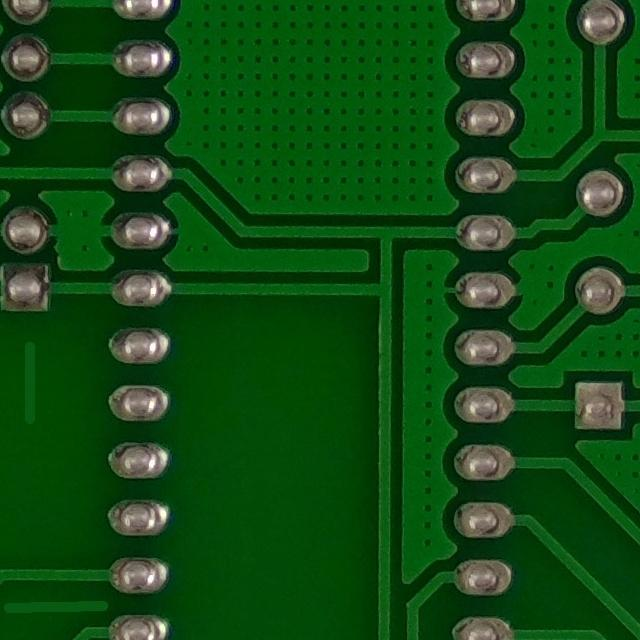spurious_copper: (0, 584, 126, 640), (6, 329, 60, 443)
